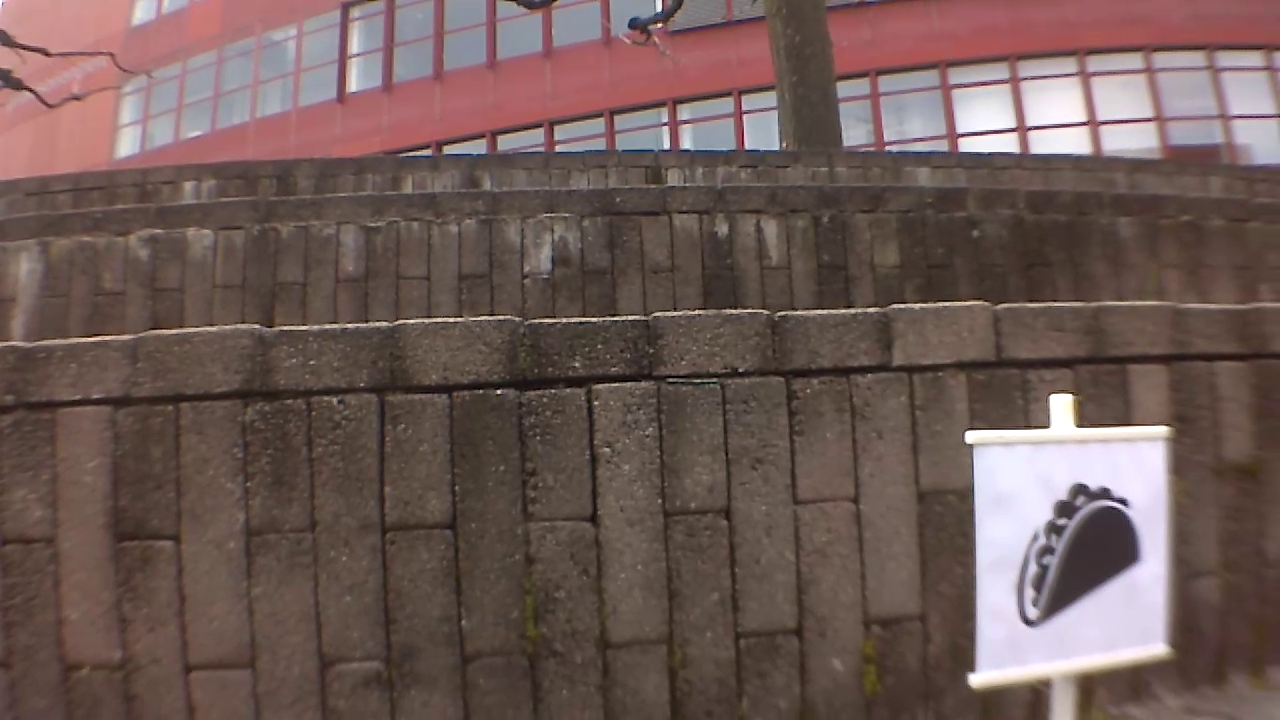taco: (1006, 476, 1150, 632)
